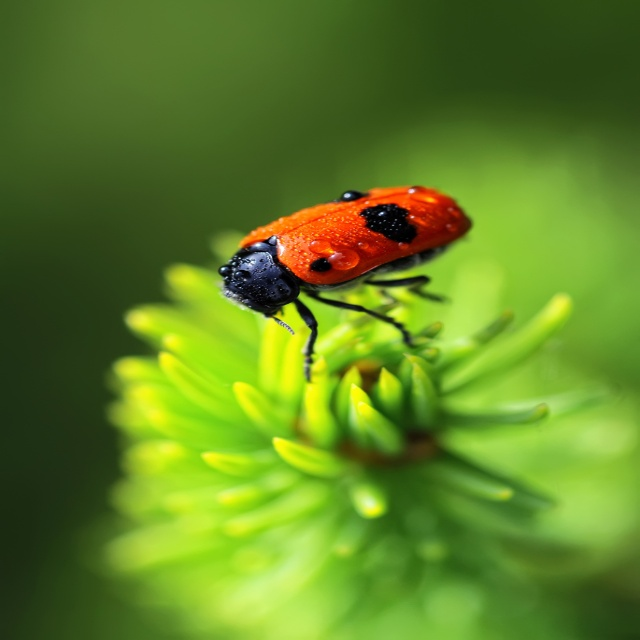Ladybug: (223, 186, 474, 380)
